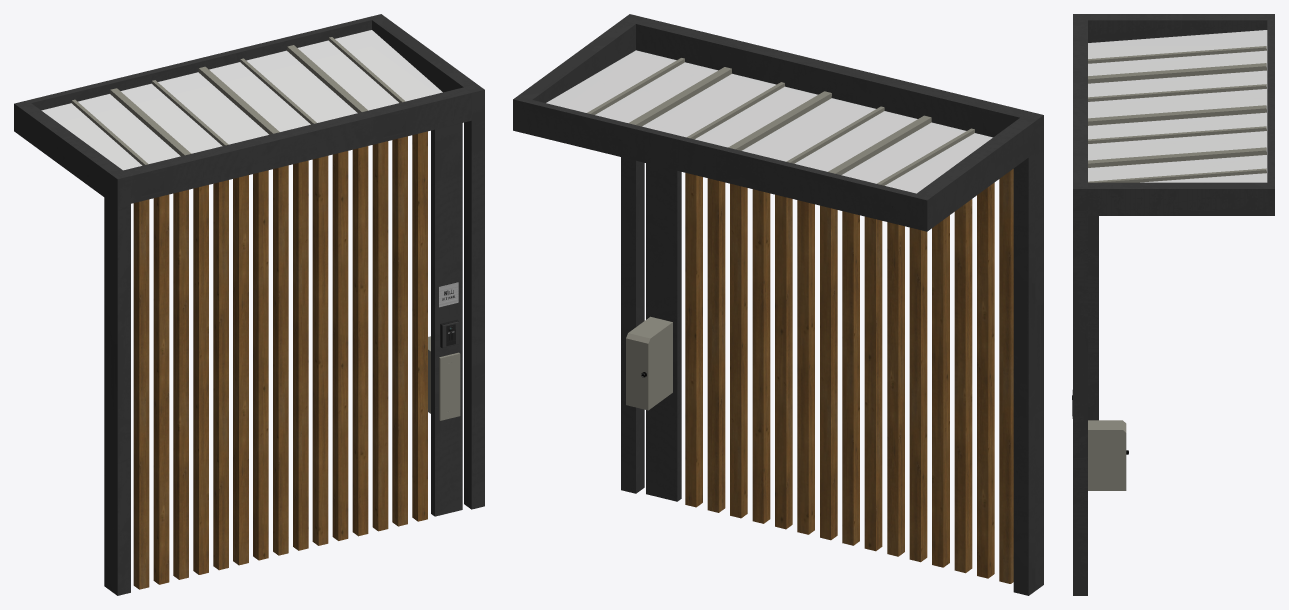
The model's file is hy17-e_matblack.fbx.
3 views of the same model, side by side, from view 1: azimuth 30°, elevation 25°; view 2: azimuth 150°, elevation 25°; view 3: azimuth 270°, elevation 25° (orthographic). The views are drawn at different scales.
Visible parts, largest first — view 1: hy17-e_matblack; view 2: hy17-e_matblack; view 3: hy17-e_matblack.
Part boxes in pixels (x1=…): hy17-e_matblack: x1=14, y1=14, x2=484, y2=595; hy17-e_matblack: x1=513, y1=14, x2=1043, y2=595; hy17-e_matblack: x1=1072, y1=14, x2=1274, y2=595.
Bounding box in the file's own units: 277 × 300 × 136.
Materials: 15 (12 with a texture image).
